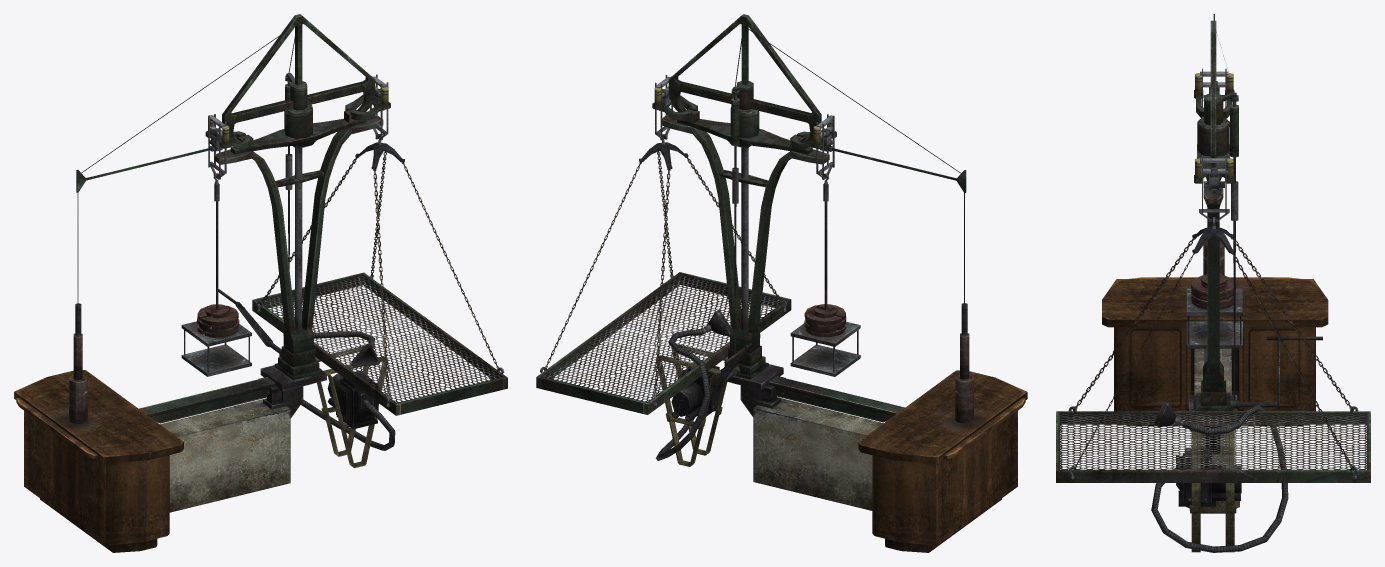
The model's file is Human Scale.obj.
3 views of the same model, side by side, from view 1: azimuth 30°, elevation 25°; view 2: azimuth 150°, elevation 25°; view 3: azimuth 270°, elevation 25° (orthographic). The views are drawn at different scales.
Parts seen in each view (by area): view 1: GUL_HumanScale; view 2: GUL_HumanScale; view 3: GUL_HumanScale.
Part boxes in pixels (bbox=[...]): GUL_HumanScale: bbox=[14, 14, 507, 552]; GUL_HumanScale: bbox=[536, 14, 1027, 552]; GUL_HumanScale: bbox=[1056, 14, 1370, 552].
Bounding box in the file's own units: 301 × 341 × 195.
Materials: 1 (1 with a texture image).
